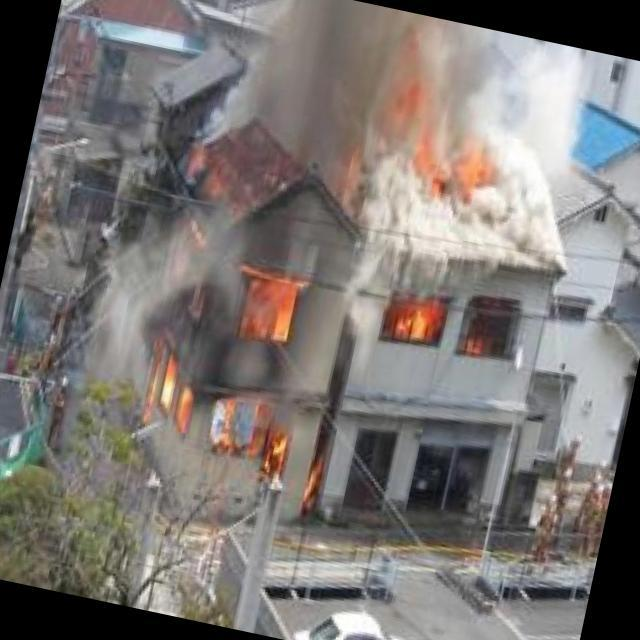Fire: (136, 113, 358, 483), (381, 65, 517, 197), (383, 292, 507, 367)
